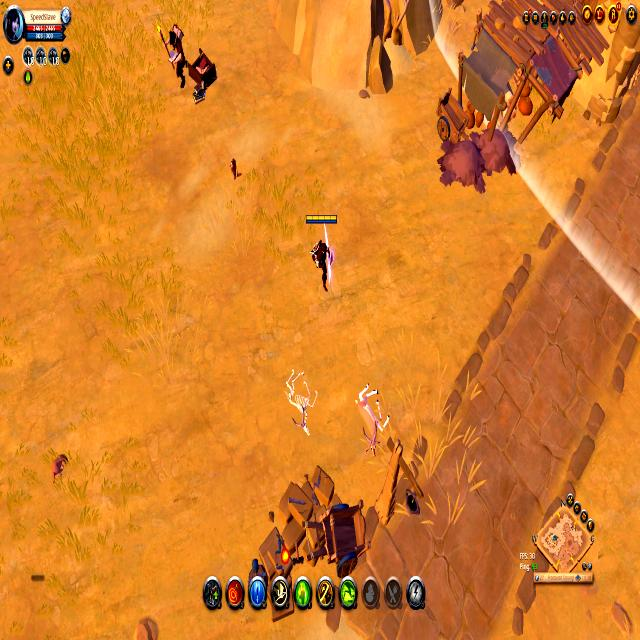mob: (353, 377, 393, 454)
ore: (154, 16, 193, 95)
red: (306, 210, 340, 294)
